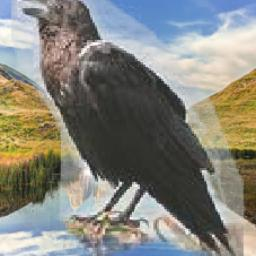Crow: (11, 0, 244, 256)
